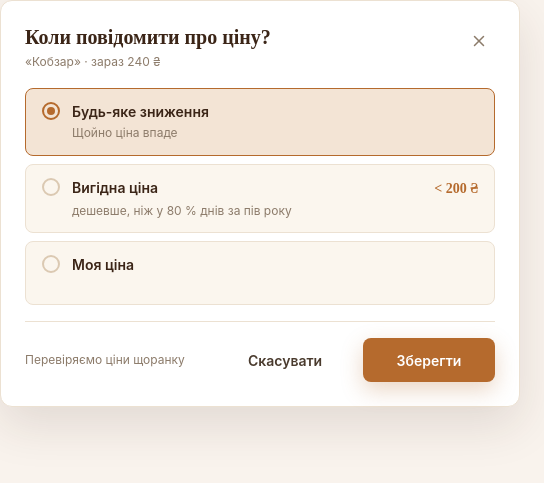
Test: AlertConfig › «Підтвердити» is disabled until a valid amount is typed, then enables
The image size is (544, 483).
Click the radio button labelled "Моя ціна".
click(260, 273)  # box [25,241,495,305]
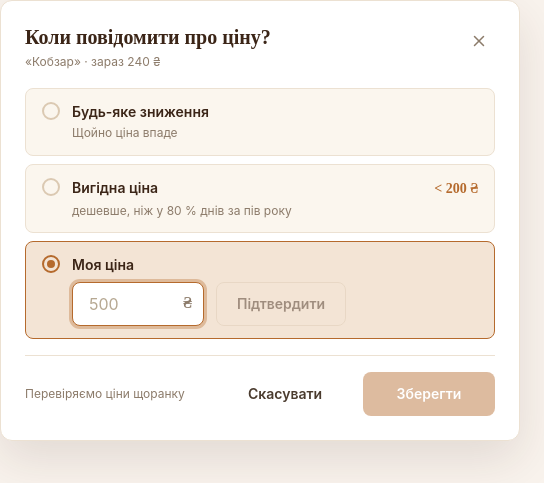
Expected: the button "Підтвердити" is disabled, [216,282,346,326]
Type "199" into the field named "Моя ціна".
click(138, 304); type("199")  # box [72,282,204,326]
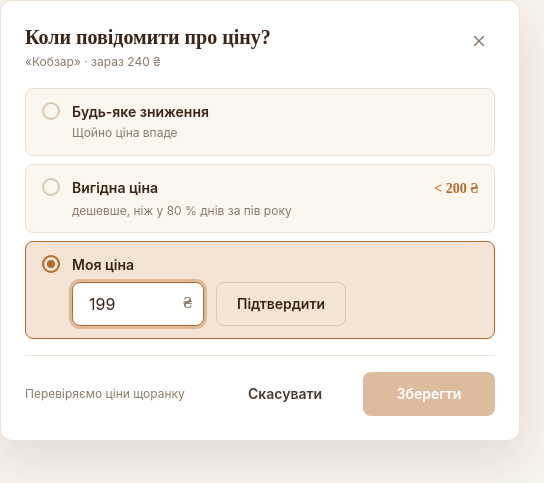
Expected: the button "Підтвердити" is enabled, [216,282,346,326]
